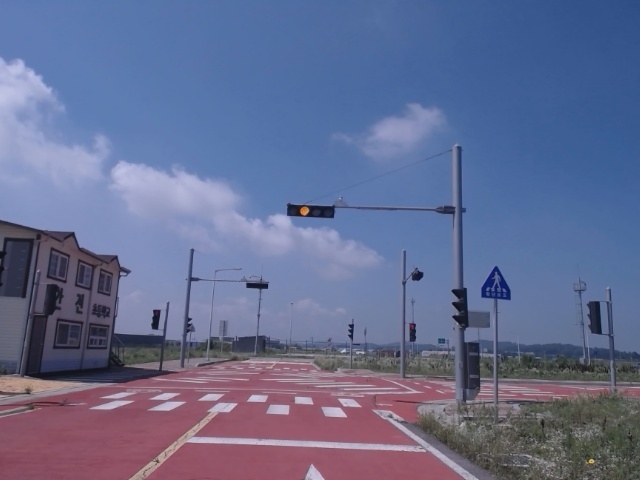orange_4: (288, 203, 336, 219)
